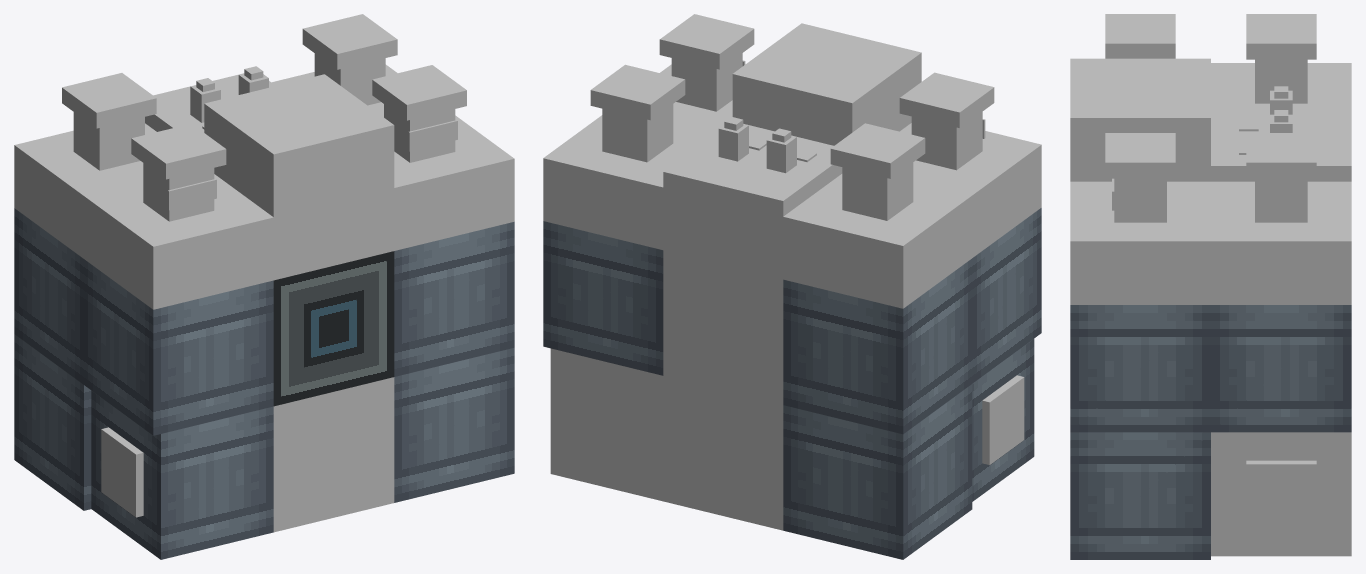
File: electrolyzer.obj
The picture shows the model from 3 angles, left to right: view 1: azimuth 30°, elevation 25°; view 2: azimuth 150°, elevation 25°; view 3: azimuth 270°, elevation 25°; orthographic projection.
Parts seen in each view (by area): view 1: electrolyzer; view 2: electrolyzer; view 3: electrolyzer.
Part boxes in pixels (<box>): electrolyzer: <box>14,14,514,559</box>; electrolyzer: <box>543,14,1041,559</box>; electrolyzer: <box>1070,14,1351,559</box>.
Bounding box in the file's own units: 3 × 3 × 2.
